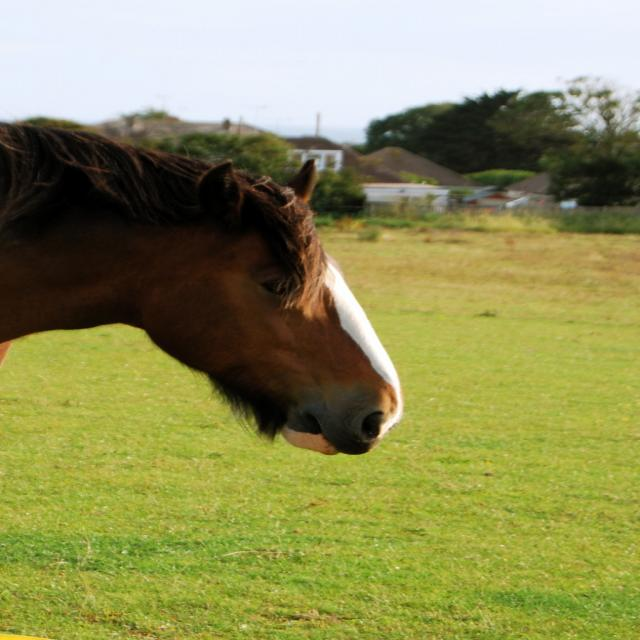Horse: (0, 120, 405, 454)
